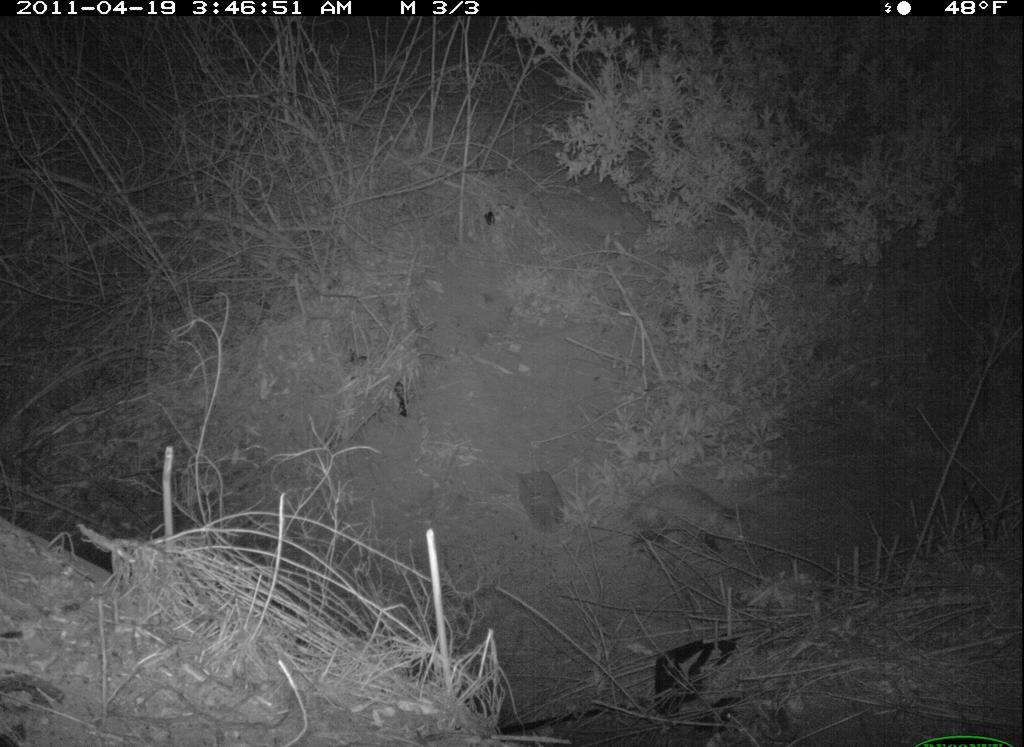opossum: (605, 475, 756, 578)
